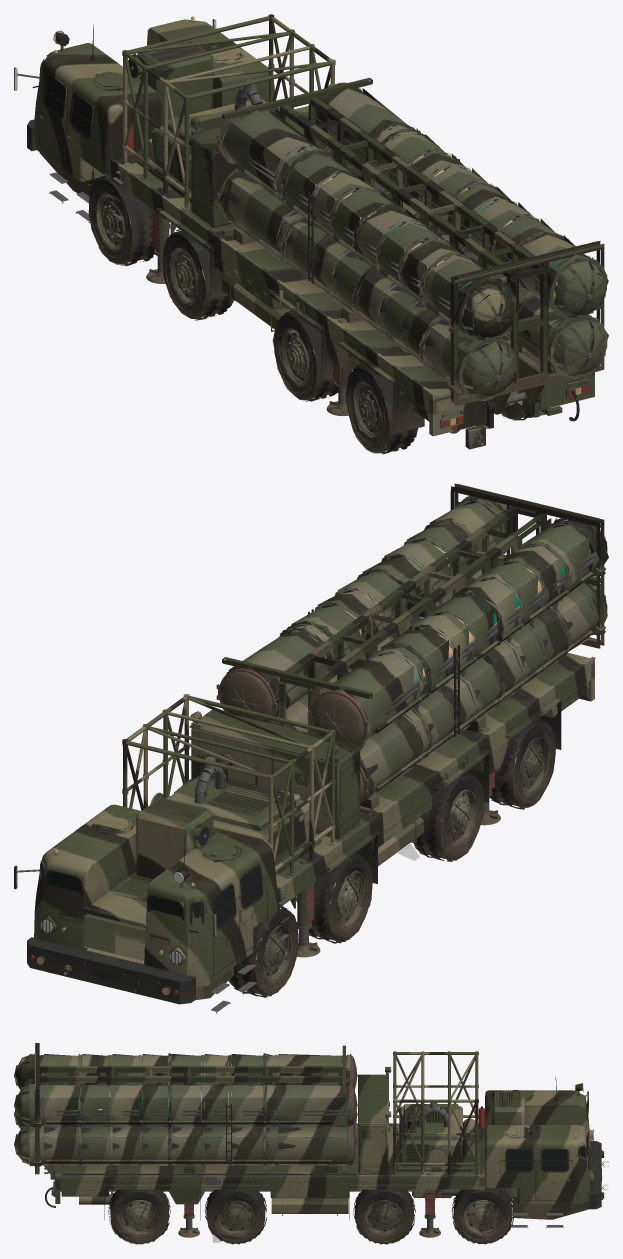
The picture shows the model from 3 angles, top to bottom: view 1: azimuth 30°, elevation 25°; view 2: azimuth 150°, elevation 25°; view 3: azimuth 270°, elevation 25°; orthographic projection. The views are drawn at different scales.
Visible parts, largest first — view 1: s300_5p85; view 2: s300_5p85; view 3: s300_5p85.
Boxes of the visible parts, box(x1,y1,x2,y2) form: s300_5p85: box(14, 14, 608, 454); s300_5p85: box(14, 483, 608, 1013); s300_5p85: box(14, 1043, 608, 1244).
Size of the model in its own units: 3.04 by 3.65 by 11.66.
15 materials, 5 textured.
